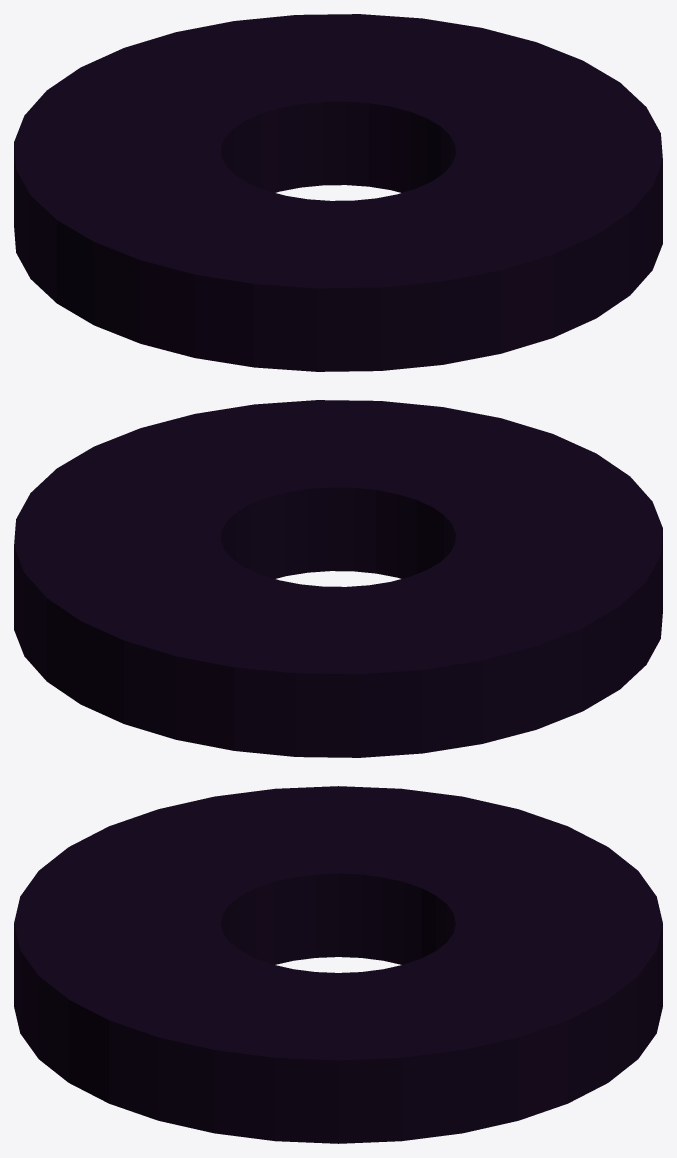
The model's file is olive.fbx.
3 renders of one model, top to bottom at view 1: azimuth 30°, elevation 25°; view 2: azimuth 150°, elevation 25°; view 3: azimuth 270°, elevation 25°, orthographic.
Parts seen in each view (by area): view 1: olive; view 2: olive; view 3: olive.
Part boxes in pixels (x1=…): olive: x1=14, y1=14, x2=662, y2=371; olive: x1=14, y1=400, x2=662, y2=757; olive: x1=14, y1=786, x2=662, y2=1143.
Bounding box in the file's own units: 99.67 × 14.14 × 99.67.
